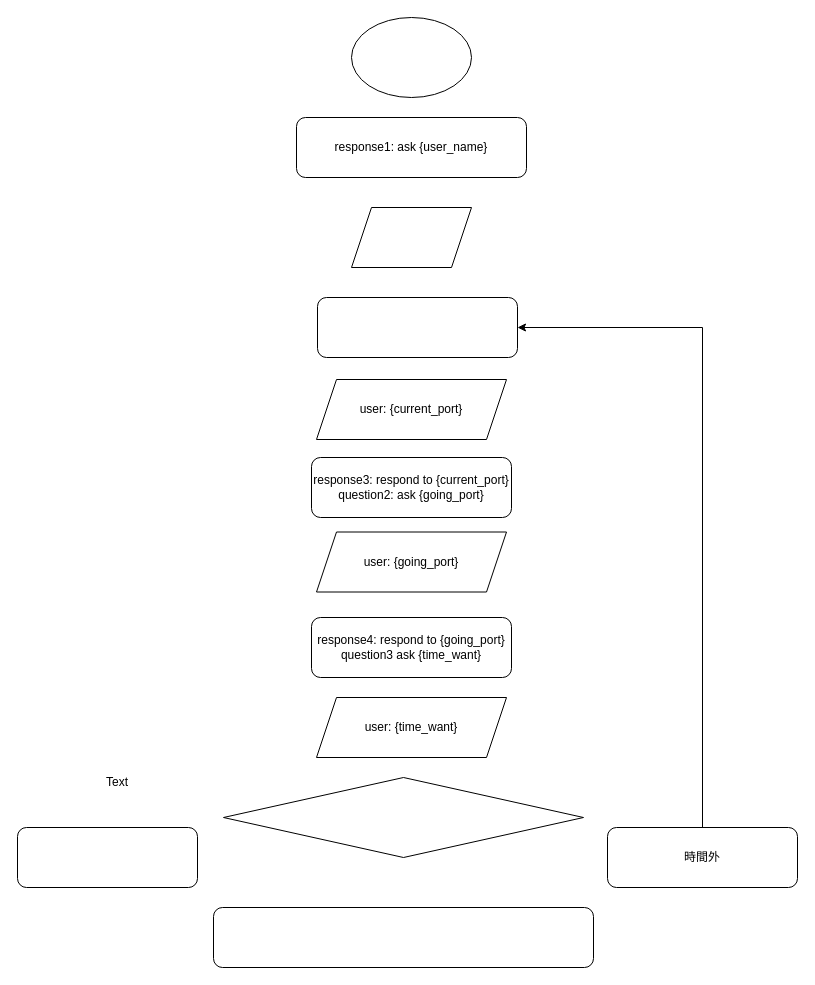
This 815x985 diagram has some shape labels left out. The centre of each missing label's shape, as x and y in pixels:
"if: {time_want} possible" belongs at (x=403, y=817).
"response2: respond to name question1: ask {current_port}" belongs at (x=417, y=327).
"Start" belongs at (x=411, y=57).
"user: {name}" belongs at (x=411, y=237).
